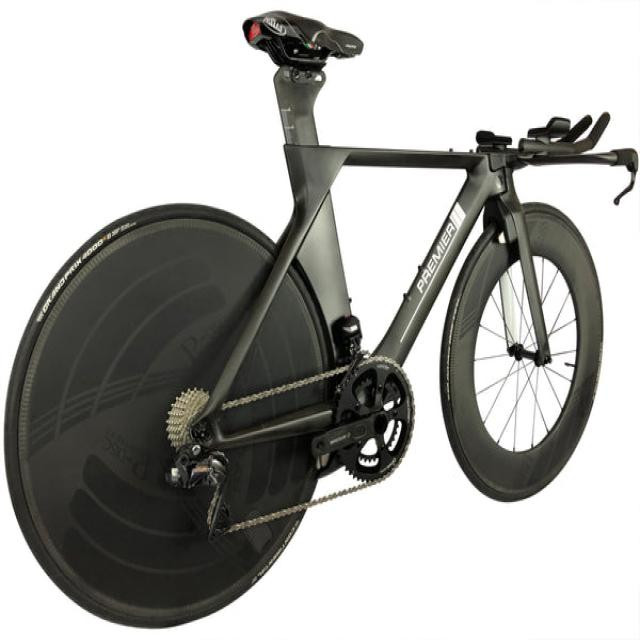TT-bike: (2, 8, 639, 630)
